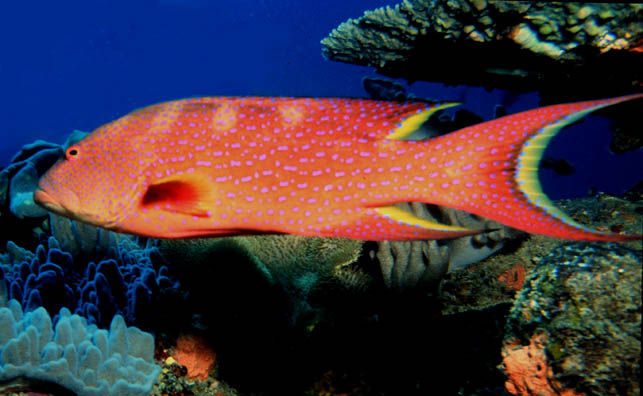fish: (36, 96, 640, 242)
